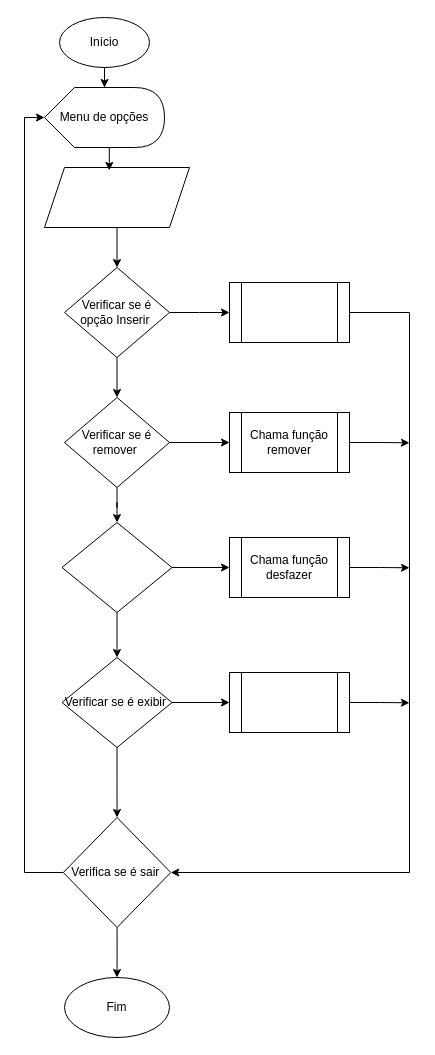
The diagram is 435 pixels wide and 1055 high, and some of its shapes have lost their labels. The shapes that lost their labels are listed below. From the top down, each one's centre as x and y in pixels, then its label:
the point at 117,197: Usuário escolhe opção
the point at 289,312: Chama função inserir
the point at 116,567: Verificar se é desfazer (undo)
the point at 289,702: Chama função exibir
